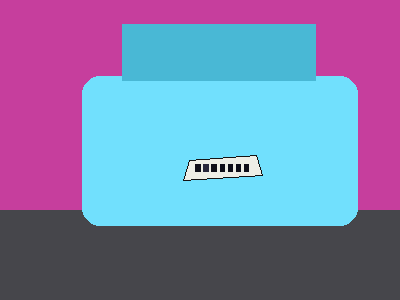licence: (183, 156, 262, 180)
